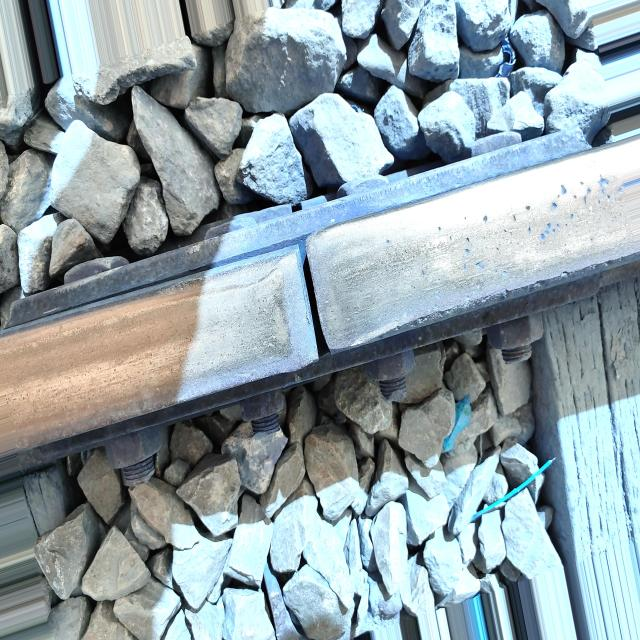crack: (263, 227, 365, 379)
